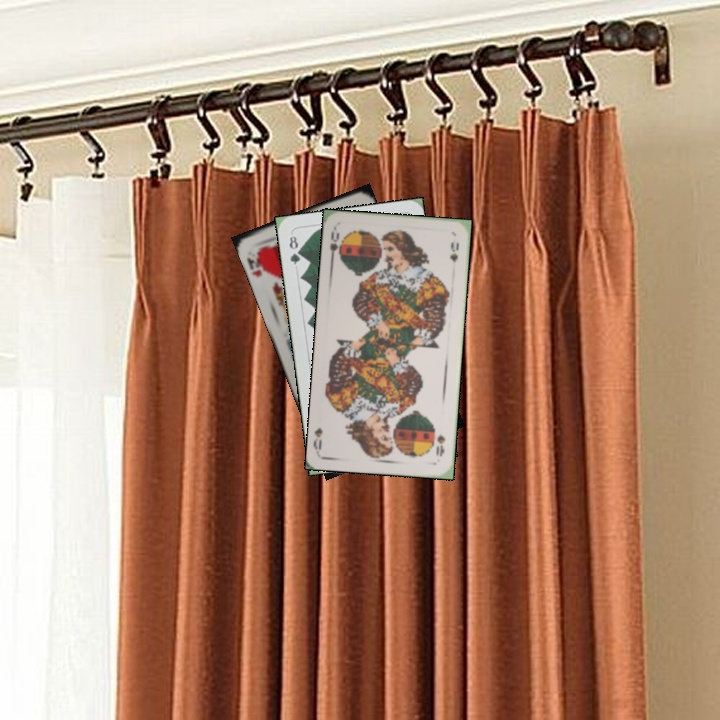G8: (285, 232, 303, 267)
HK: (243, 247, 270, 280)
SO: (326, 225, 344, 265), (432, 430, 448, 459)
